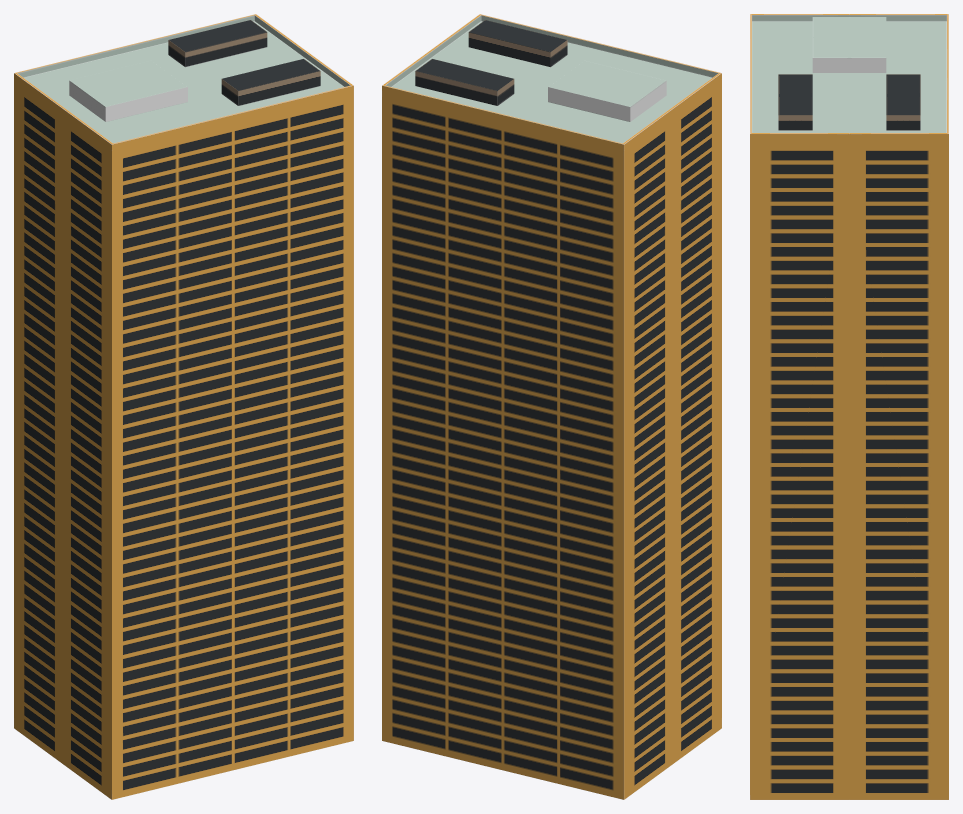
File: American_SmallSkyscraper.fbx
3 renders of one model, left to right at view 1: azimuth 30°, elevation 25°; view 2: azimuth 150°, elevation 25°; view 3: azimuth 270°, elevation 25°, orthographic.
Parts seen in each view (by area): view 1: American_SmallSkyscraper; view 2: American_SmallSkyscraper; view 3: American_SmallSkyscraper.
Part boxes in pixels (box(x1,y1,x2,y2)): American_SmallSkyscraper: box(14, 14, 353, 799); American_SmallSkyscraper: box(382, 14, 721, 799); American_SmallSkyscraper: box(750, 14, 948, 799).
Bounding box in the file's own units: 6.89 × 18.07 × 4.82.
Materials: 1 (1 with a texture image).
